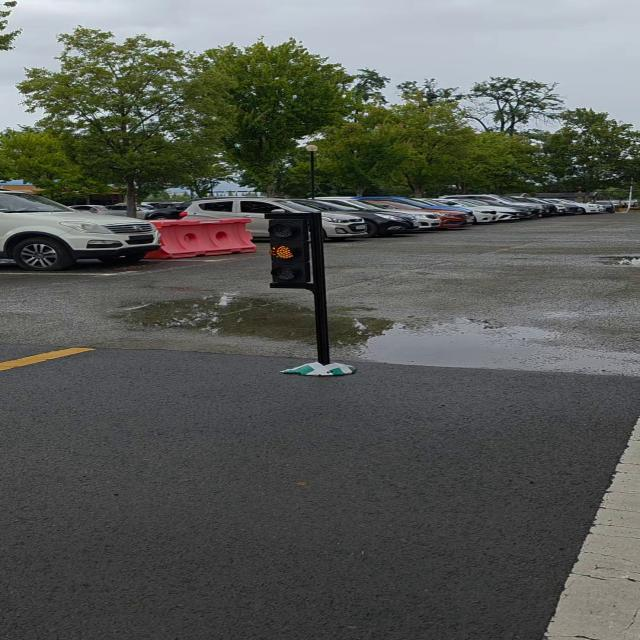yellow: (261, 213, 329, 295)
